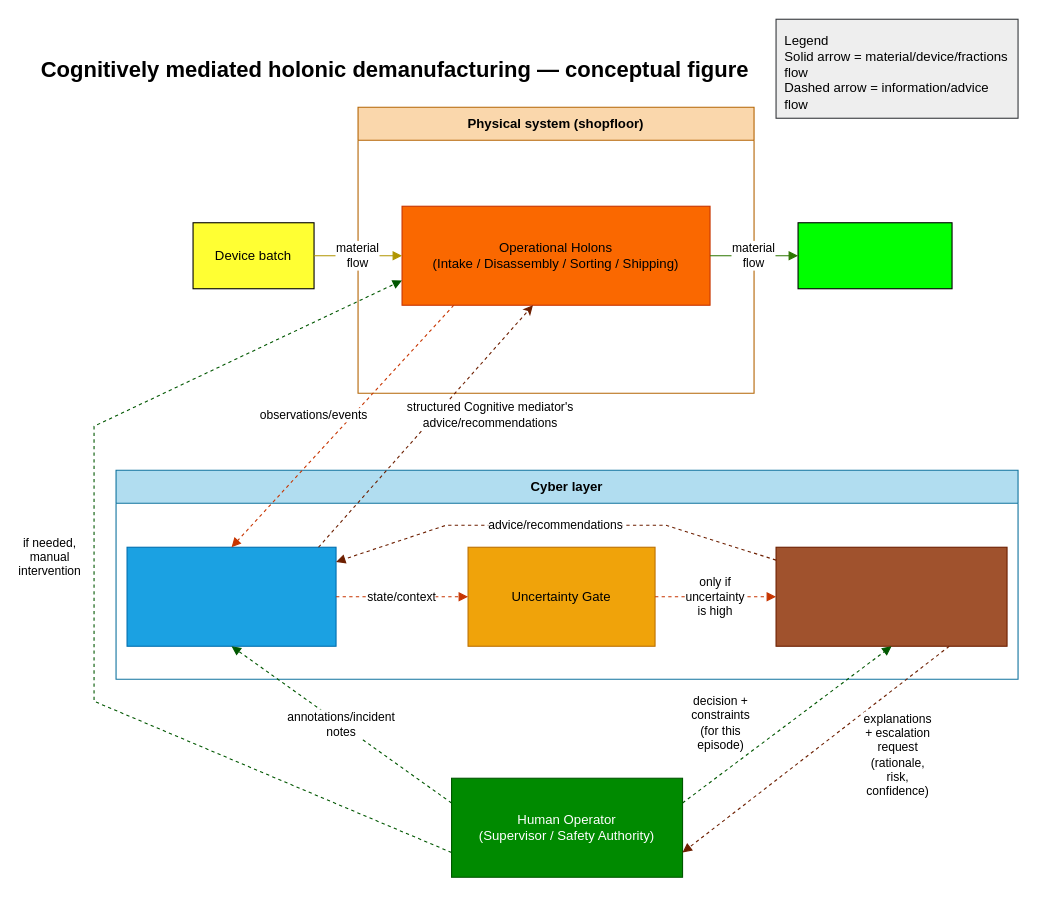
The diagram is 1037 pixels wide and 897 high, and some of its shapes have lost their labels. Here are the shapes that lost their labels. From the top down, the centre of each, then its label:
At point 874,255: "Recovered fractions".
At point 231,596: "Digital Twin".
At point 891,596: "Cognitive Mediator (Policies + Episodes)".
